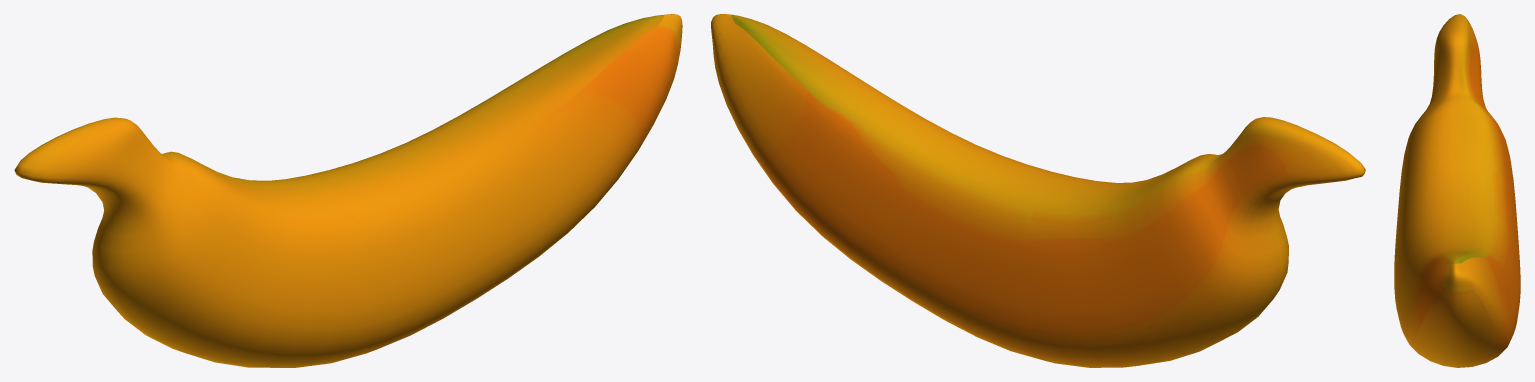
Rendered from banana.gltf.
3 views of the same model, side by side, from view 1: azimuth 30°, elevation 25°; view 2: azimuth 150°, elevation 25°; view 3: azimuth 270°, elevation 25° (orthographic). The views are drawn at different scales.
Parts seen in each view (by area): view 1: banana; view 2: banana; view 3: banana.
Boxes of the visible parts, left/top/right/bottom form: banana: left=14, top=14, right=682, bottom=367; banana: left=711, top=14, right=1365, bottom=367; banana: left=1394, top=14, right=1520, bottom=367.
Size of the model in its own units: 0.1201 by 0.0495 by 0.0253.
1 material, 1 textured.
